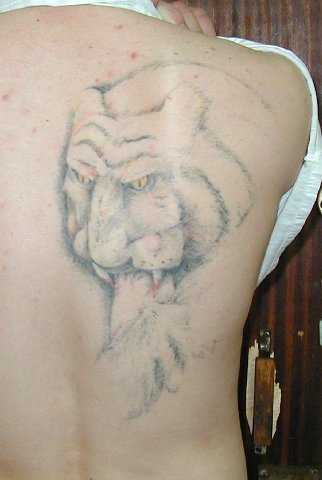tatu5_tigr: (57, 61, 252, 410)
